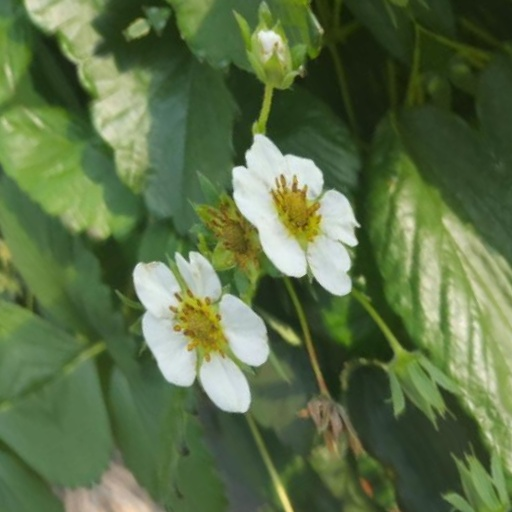Blossom Blight: (144, 243, 202, 333), (293, 196, 341, 278), (224, 190, 269, 262)
